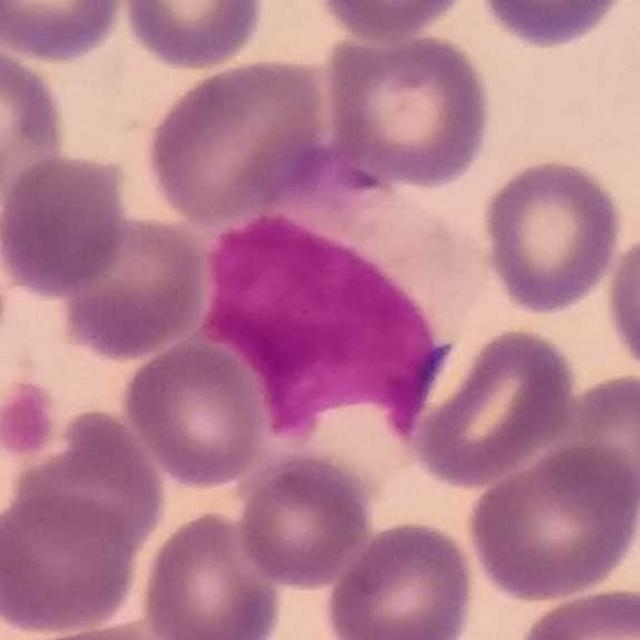Lymphocyte: (204, 146, 486, 442)
Platelets: (0, 377, 71, 463)
RBC: (142, 54, 338, 228), (317, 25, 498, 192), (403, 323, 580, 490), (464, 440, 640, 603), (3, 404, 170, 563), (46, 207, 212, 362), (478, 153, 626, 317), (119, 336, 269, 491), (0, 485, 144, 636), (136, 505, 286, 640), (234, 449, 375, 592), (0, 149, 130, 300), (322, 516, 479, 640), (0, 34, 72, 215), (554, 370, 640, 513), (114, 0, 270, 72), (0, 0, 130, 66), (473, 0, 634, 51), (511, 583, 640, 640), (308, 0, 476, 42), (601, 225, 640, 382), (20, 615, 187, 640)
